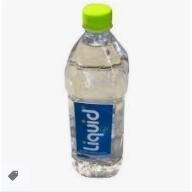plastic_bottle: (60, 3, 132, 179)
